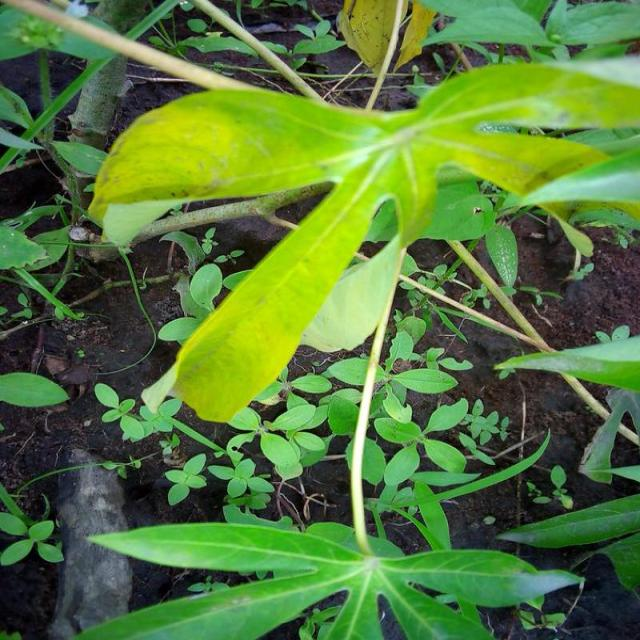cassava leaf: (87, 52, 639, 426)
